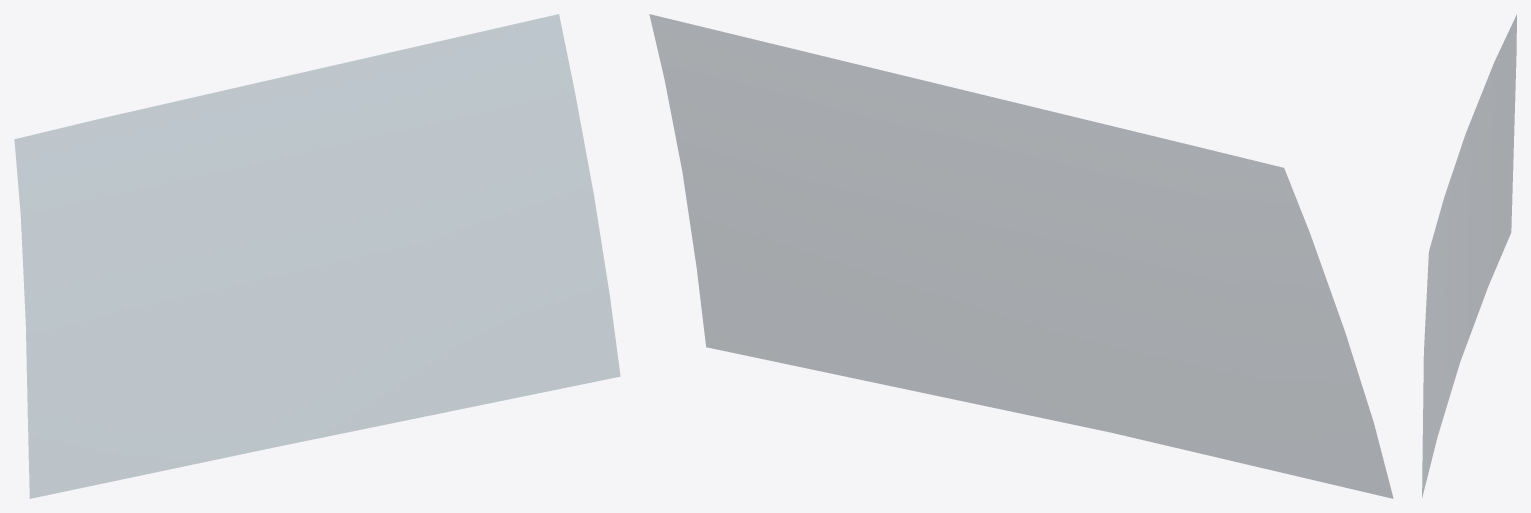
The picture shows the model from 3 angles, left to right: view 1: azimuth 30°, elevation 25°; view 2: azimuth 150°, elevation 25°; view 3: azimuth 270°, elevation 25°; orthographic projection. The views are drawn at different scales.
Parts seen in each view (by area): view 1: SM_NissanPatrol_Door_RR_Glass_Int2; view 2: SM_NissanPatrol_Door_RR_Glass_Int2; view 3: SM_NissanPatrol_Door_RR_Glass_Int2.
Boxes of the visible parts, bbox=[...] form: SM_NissanPatrol_Door_RR_Glass_Int2: bbox=[14, 14, 620, 498]; SM_NissanPatrol_Door_RR_Glass_Int2: bbox=[649, 14, 1393, 498]; SM_NissanPatrol_Door_RR_Glass_Int2: bbox=[1422, 15, 1516, 496].
Bounding box in the file's own units: 0.9372 × 0.5012 × 0.1613.
